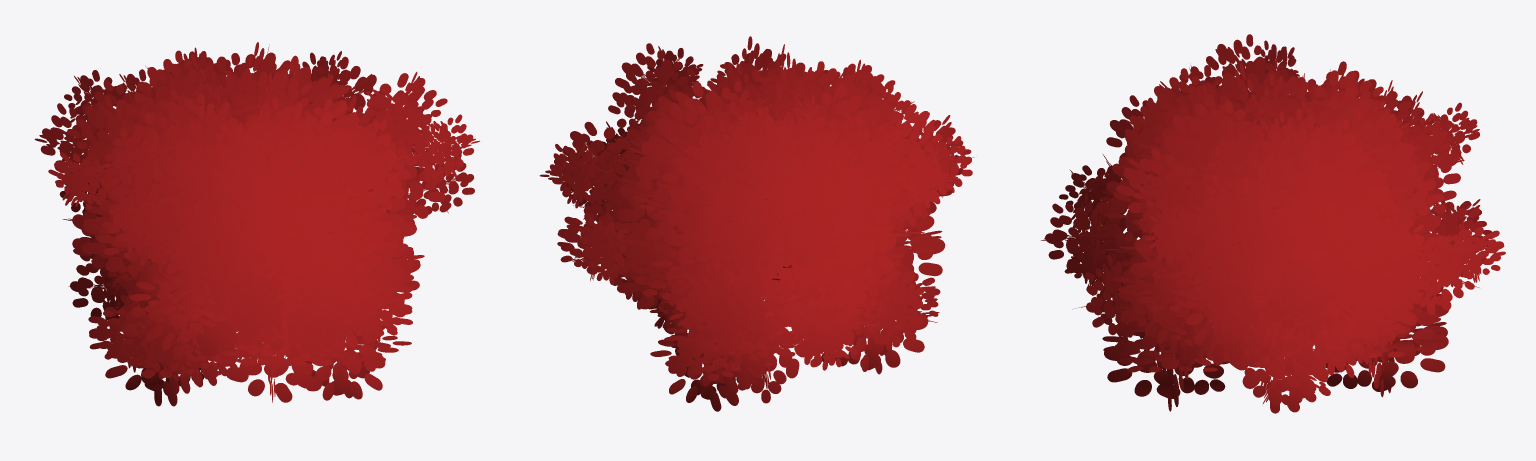
The model's file is Bush_Common.gltf.
3 views of the same model, side by side, from view 1: azimuth 30°, elevation 25°; view 2: azimuth 150°, elevation 25°; view 3: azimuth 270°, elevation 25° (orthographic). The views are drawn at different scales.
Visible parts, largest first — view 1: Bush_Common; view 2: Bush_Common; view 3: Bush_Common.
Boxes of the visible parts, left/top/right/bottom form: Bush_Common: left=34, top=42, right=479, bottom=406; Bush_Common: left=539, top=36, right=974, bottom=411; Bush_Common: left=1041, top=34, right=1505, bottom=413.
Size of the model in its own units: 1.91 by 1.58 by 1.97.
1 material, 1 textured.
